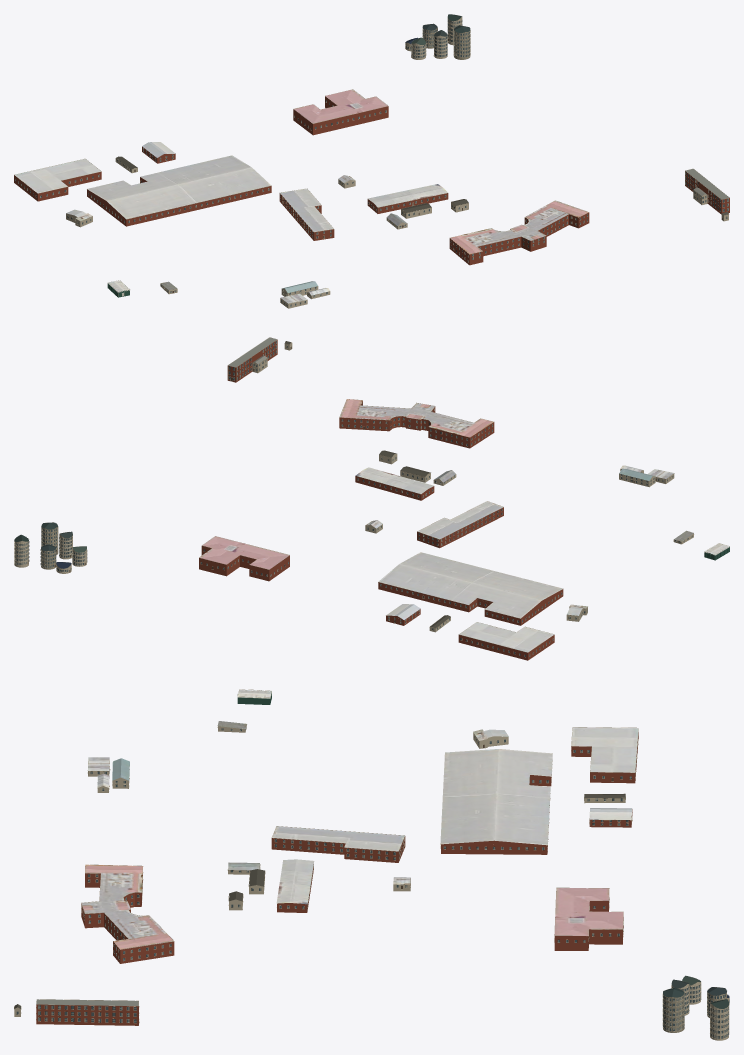
3 views of the same model, one above another, from view 1: azimuth 30°, elevation 25°; view 2: azimuth 150°, elevation 25°; view 3: azimuth 270°, elevation 25° (orthographic). The views are drawn at different scales.
Parts seen in each view (by area): view 1: -6_1_271770601_0, -6_1_271770963_3, -6_1_271770602_1, -6_1_271770964_4, -6_1_271950656_30; view 2: -6_1_271770601_0, -6_1_271770963_3, -6_1_271770602_1, -6_1_271770964_4; view 3: -6_1_271770601_0, -6_1_271770963_3, -6_1_271770602_1, -6_1_271770964_4, -6_1_271950656_30.
Boxes of the visible parts, left/top/right/bottom form: -6_1_271770601_0: left=14, top=15, right=729, bottom=305; -6_1_271770963_3: left=14, top=96, right=729, bottom=265; -6_1_271770602_1: left=15, top=17, right=728, bottom=308; -6_1_271770964_4: left=116, top=14, right=729, bottom=215; -6_1_271950656_30: left=422, top=28, right=470, bottom=59; -6_1_271770601_0: left=14, top=337, right=729, bottom=657; -6_1_271770963_3: left=199, top=340, right=563, bottom=660; -6_1_271770602_1: left=14, top=340, right=693, bottom=656; -6_1_271770964_4: left=14, top=337, right=450, bottom=628; -6_1_271770601_0: left=14, top=689, right=729, bottom=1039; -6_1_271770963_3: left=36, top=732, right=638, bottom=1025; -6_1_271770602_1: left=14, top=726, right=729, bottom=1040; -6_1_271770964_4: left=14, top=794, right=729, bottom=1008; -6_1_271950656_30: left=663, top=991, right=726, bottom=1032.
Size of the model in its own units: 470 by 28.8 by 414.
17 materials, 1 textured.
